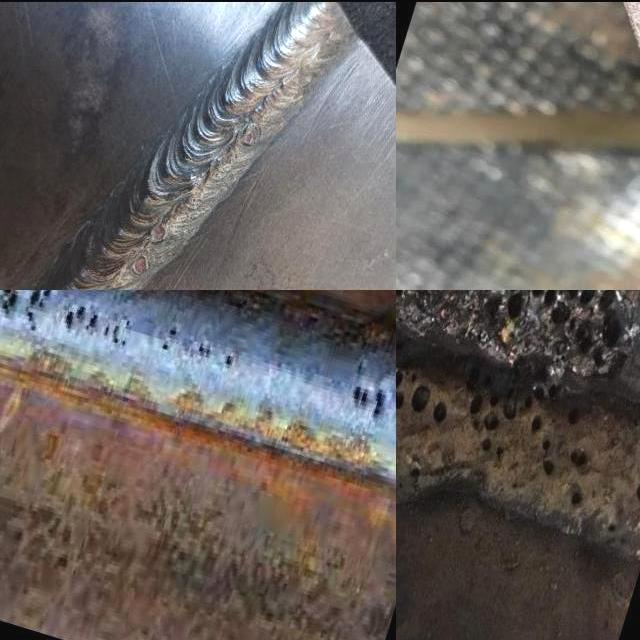defect: (462, 360, 591, 510), (500, 288, 630, 373), (396, 361, 451, 427), (347, 348, 387, 426), (0, 288, 56, 332), (61, 296, 100, 342), (100, 304, 132, 356), (406, 448, 430, 493), (157, 323, 181, 354), (193, 333, 215, 360), (129, 252, 153, 276), (148, 219, 171, 244), (223, 348, 239, 379), (243, 121, 261, 147), (217, 148, 234, 171), (186, 191, 202, 210)
